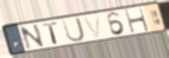6: (106, 11, 126, 37)
H: (123, 6, 151, 35)
N: (18, 23, 46, 51)
T: (41, 21, 59, 46)
U: (60, 16, 87, 44)
V: (81, 13, 103, 40)
